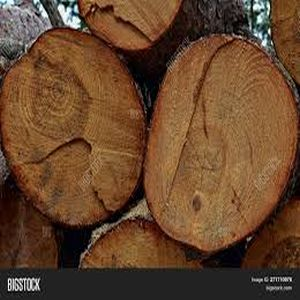log: (145, 30, 300, 258), (1, 26, 145, 231)
